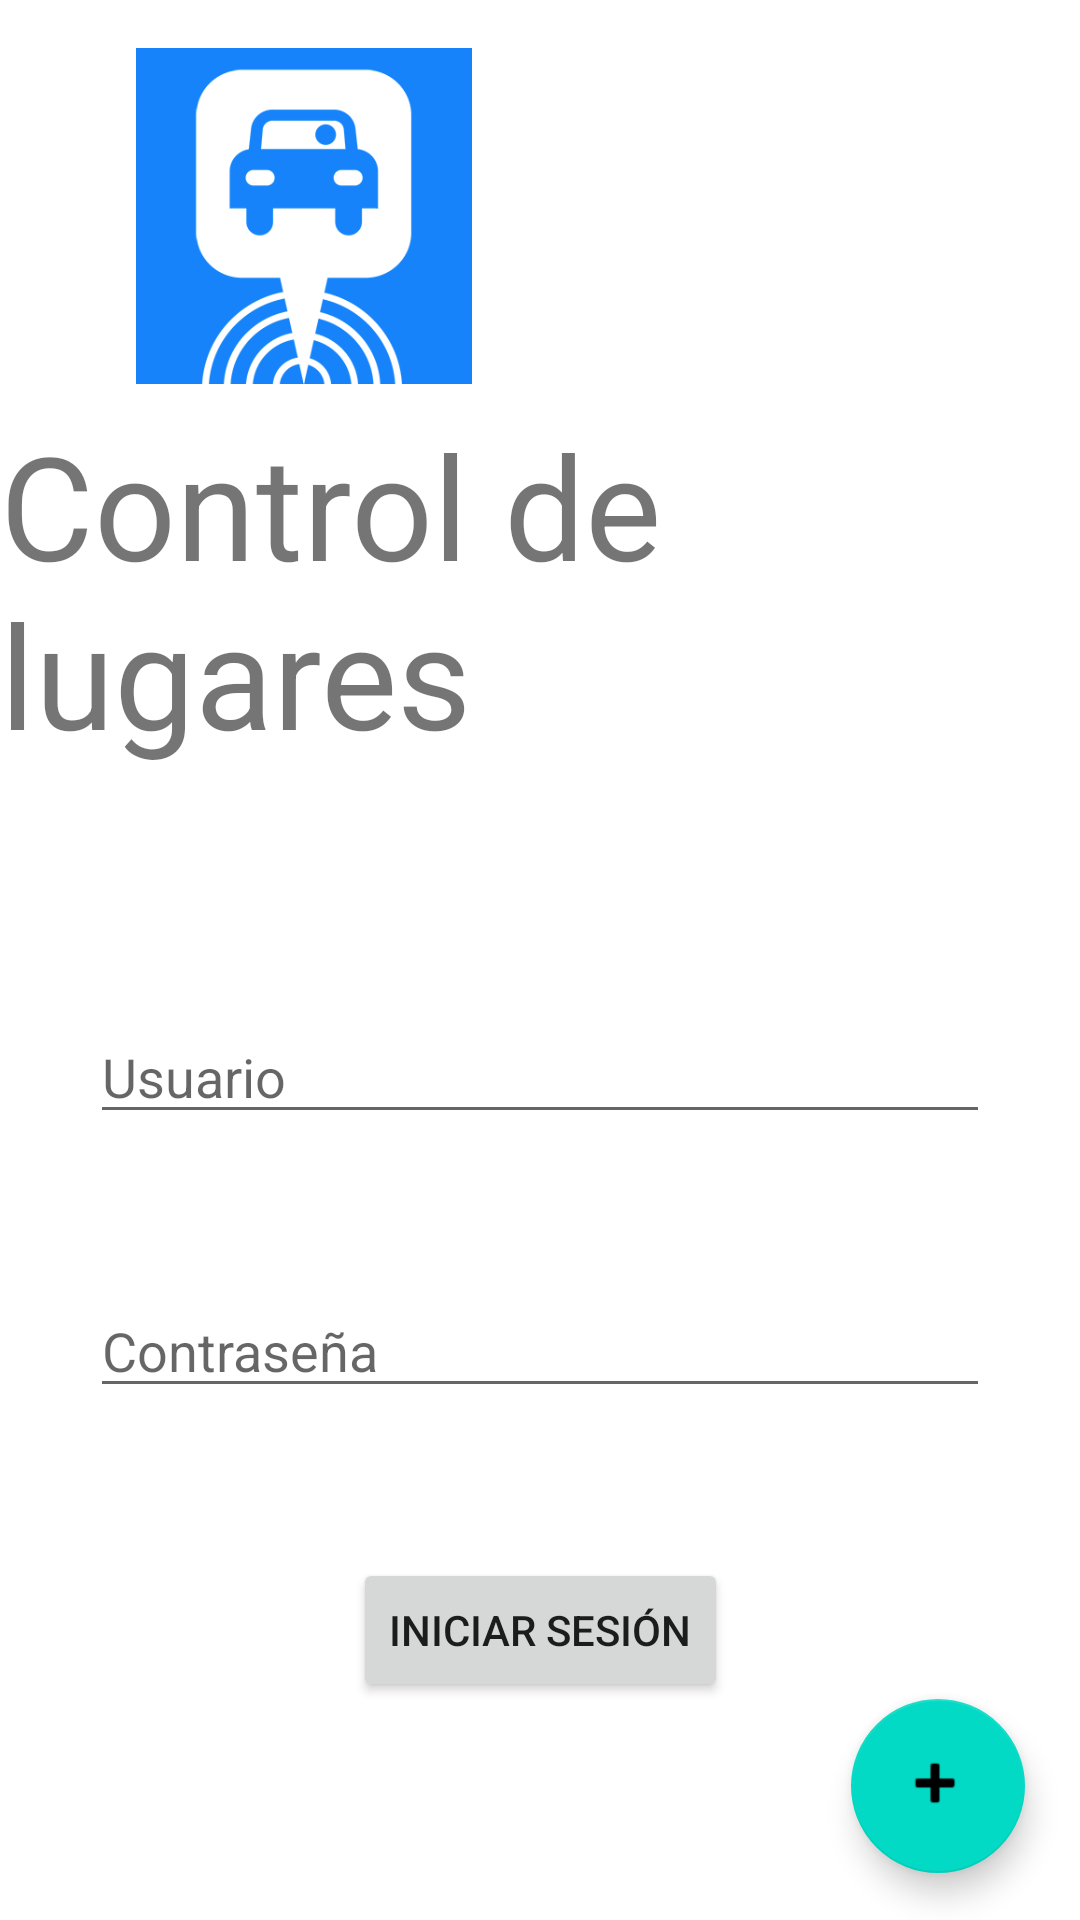

Icon bounding boxes for this 1080x1920 phone screenshot, format Rect(x1, y1, x2, y2):
add: Rect(851, 1699, 1025, 1873)
